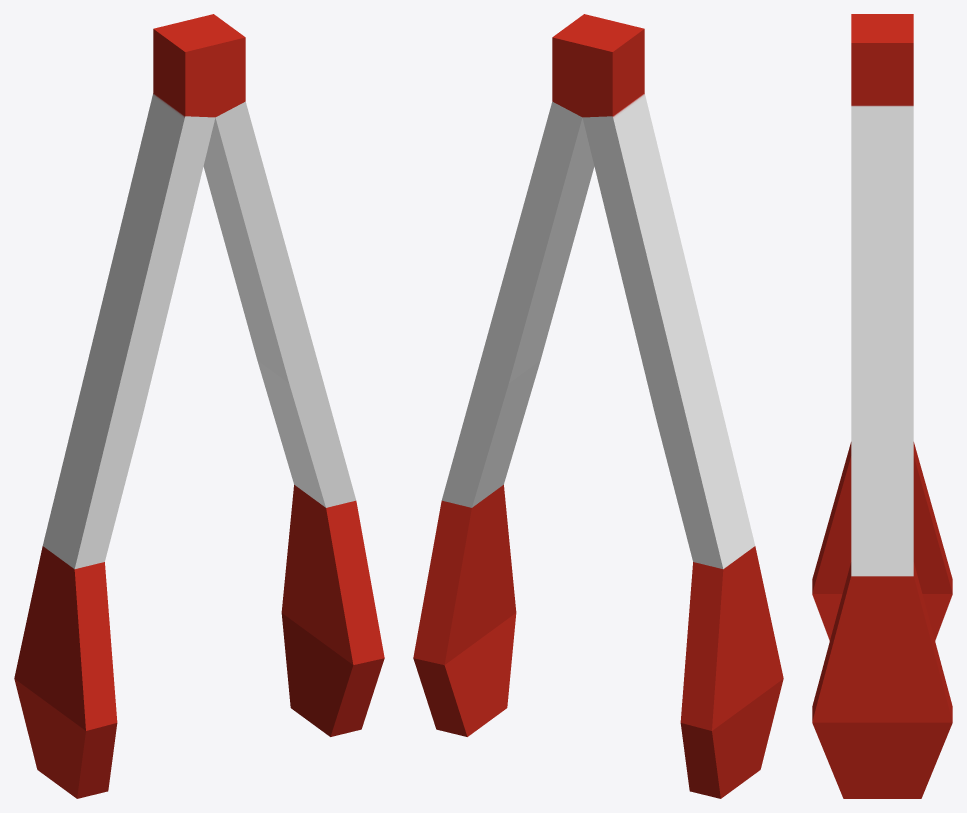
The model's file is tongs1_PLY.fbx.
The picture shows the model from 3 angles, left to right: view 1: azimuth 30°, elevation 25°; view 2: azimuth 150°, elevation 25°; view 3: azimuth 270°, elevation 25°; orthographic projection. The views are drawn at different scales.
Visible parts, largest first — view 1: tongs1_PLY; view 2: tongs1_PLY; view 3: tongs1_PLY.
Boxes of the visible parts, x1,y1,x2,y2 form: tongs1_PLY: (14,14,384,798); tongs1_PLY: (413,14,783,798); tongs1_PLY: (812,14,952,798).
Size of the model in its own units: 0.6567 by 1.51 by 0.2732.
